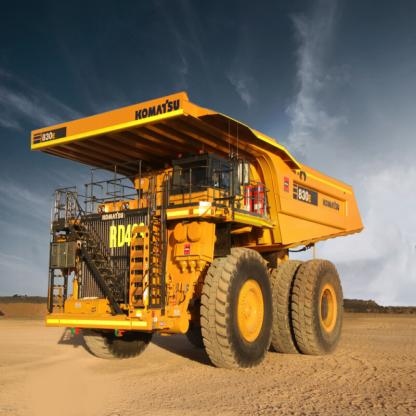dump_truck: (25, 87, 370, 374)
